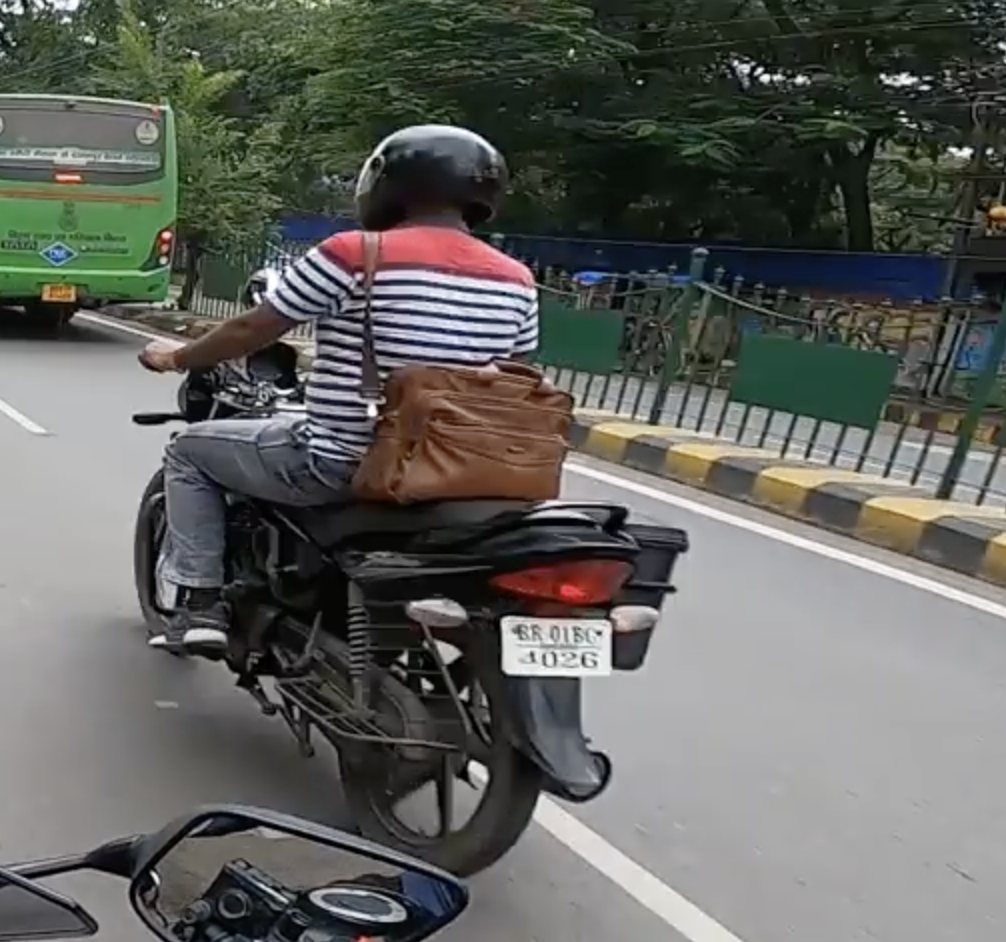motor: (116, 280, 759, 883)
number: (481, 586, 641, 697)
with helmet: (345, 119, 518, 224)
